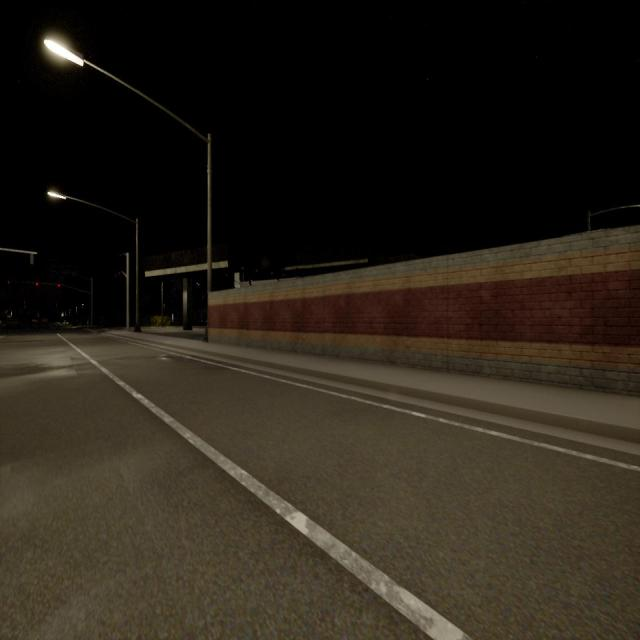Vehicle: (40, 319, 48, 329)
traffic_light: (30, 254, 34, 264), (58, 284, 61, 287), (36, 282, 38, 286), (8, 280, 9, 284)
